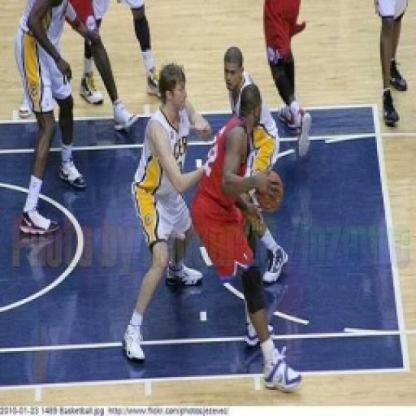basketball: (252, 171, 286, 214)
